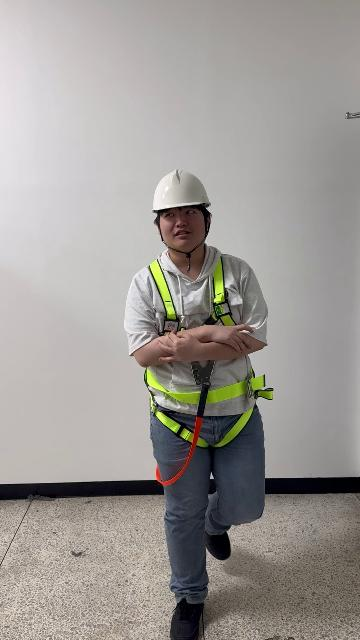helmet_worn: (151, 168, 212, 213)
shoe_not_worn: (170, 597, 203, 639), (204, 527, 231, 561)
vest_worn: (139, 259, 268, 449)
